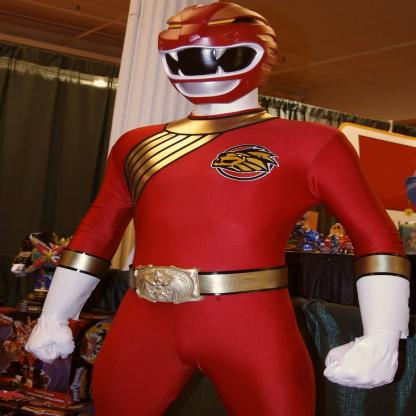Helmet: (156, 3, 282, 107)
